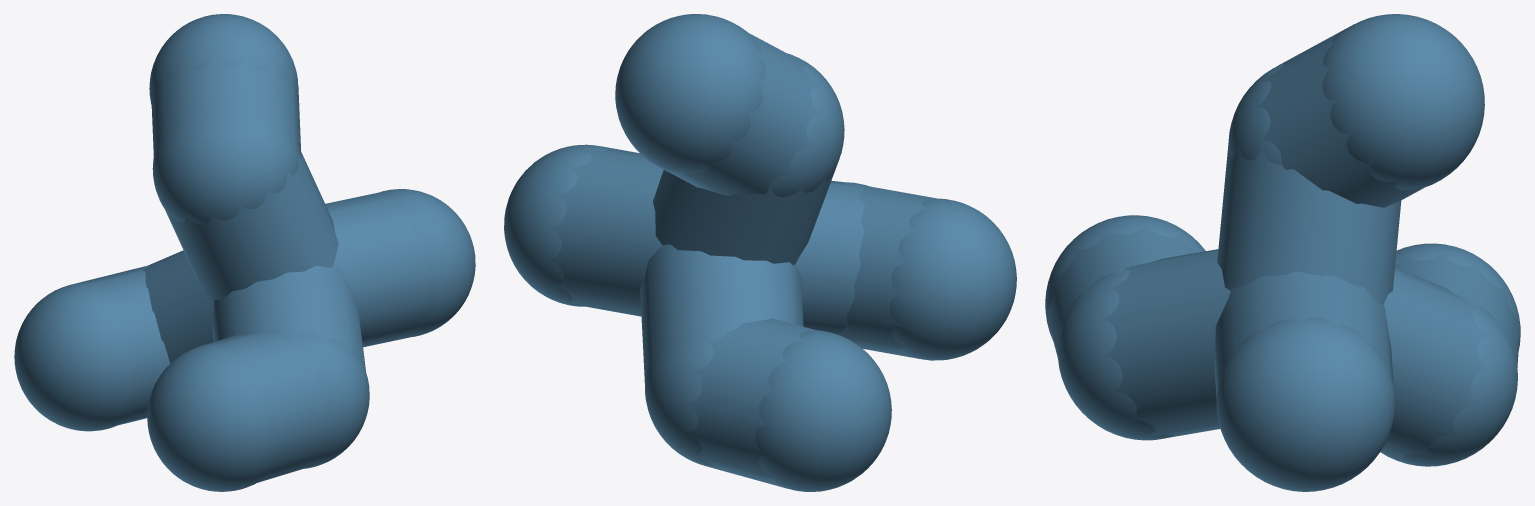
Rendered from 1004-sticks-print_NIH3D.glb.
3 views of the same model, side by side, from view 1: azimuth 30°, elevation 25°; view 2: azimuth 150°, elevation 25°; view 3: azimuth 270°, elevation 25° (orthographic). The views are drawn at different scales.
Parts seen in each view (by area): view 1: bonds, atoms; view 2: bonds, atoms; view 3: bonds, atoms.
Part boxes in pixels (x1,y1,x2,y2): bonds: (77, 53, 439, 484); atoms: (14, 14, 475, 491); bonds: (547, 30, 944, 487); atoms: (504, 14, 1016, 491); bonds: (1046, 24, 1518, 462); atoms: (1045, 14, 1520, 491).
Bounding box in the file's own units: 4.82 × 4.56 × 4.26.
